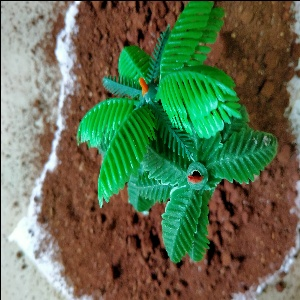plant: (79, 2, 284, 263)
